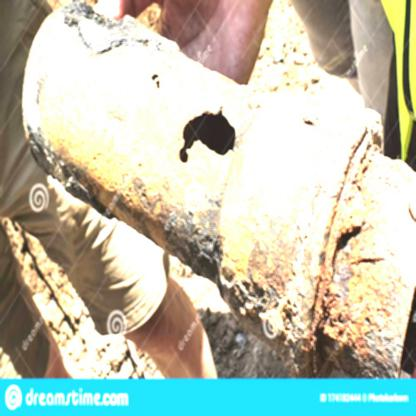burst: (169, 94, 254, 176)
